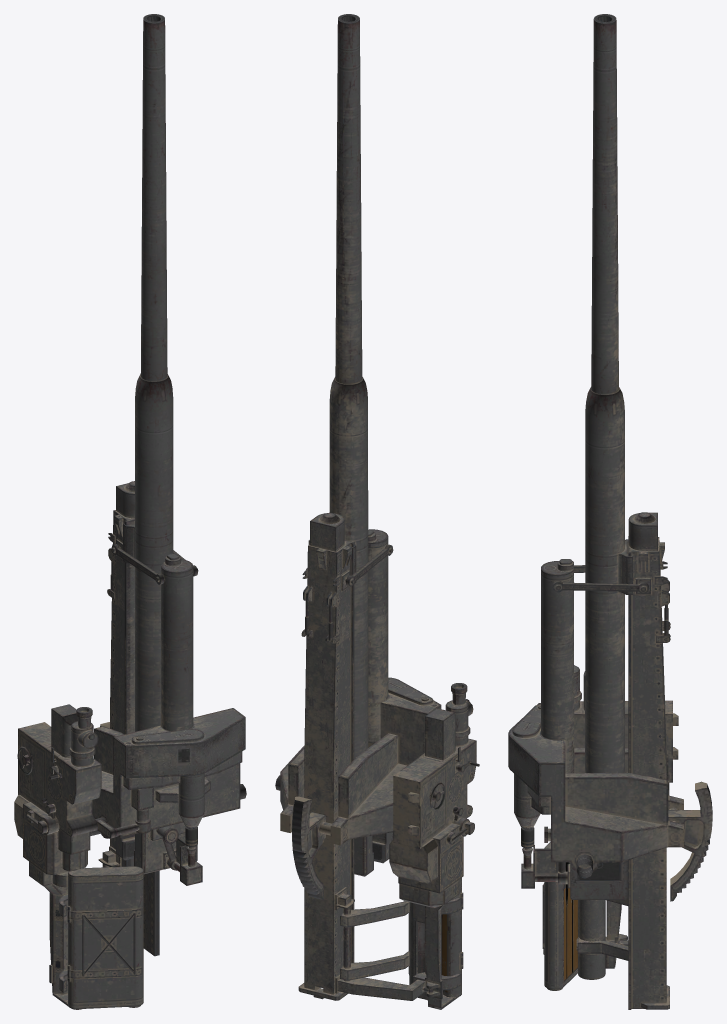
Rendered from Gun_01.glb.
3 renders of one model, left to right at view 1: azimuth 30°, elevation 25°; view 2: azimuth 150°, elevation 25°; view 3: azimuth 270°, elevation 25°, orthographic. The views are drawn at different scales.
Visible parts, largest first — view 1: set_0_group_0; view 2: set_0_group_0; view 3: set_0_group_0.
Part boxes in pixels (left/top/right/bottom): set_0_group_0: left=14, top=14, right=246, bottom=1009; set_0_group_0: left=275, top=14, right=479, bottom=1009; set_0_group_0: left=508, top=14, right=712, bottom=1009.
Size of the model in its own units: 2.05 by 9.51 by 1.78.
Materials: 1 (1 with a texture image).
